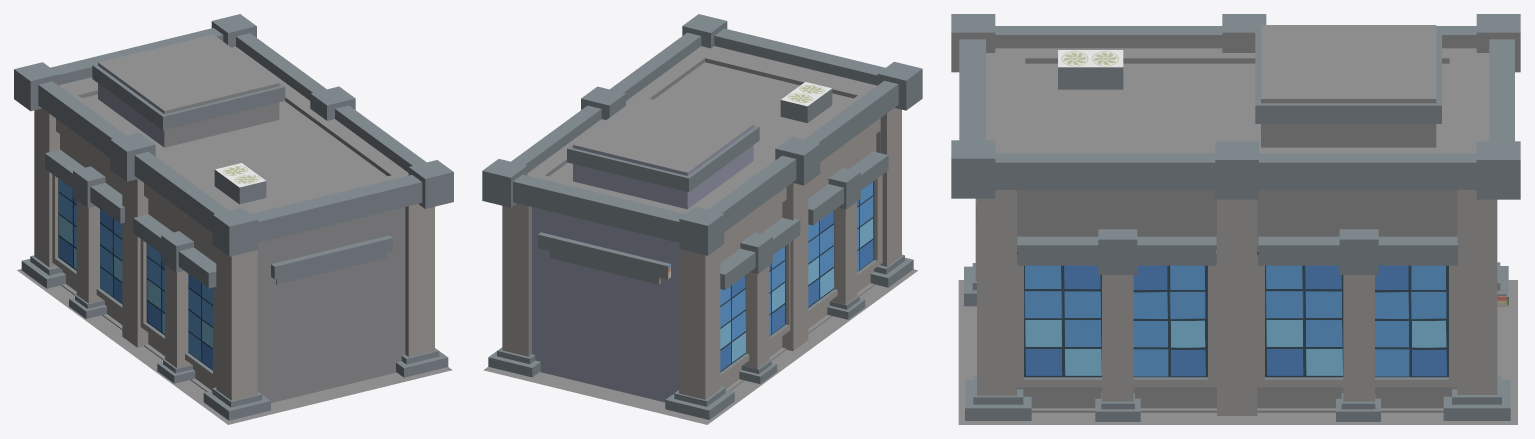
File: putong_xiaoxing10.fbx
3 views of the same model, side by side, from view 1: azimuth 30°, elevation 25°; view 2: azimuth 150°, elevation 25°; view 3: azimuth 270°, elevation 25° (orthographic). The views are drawn at different scales.
Parts seen in each view (by area): view 1: putong_xiaoxing10; view 2: putong_xiaoxing10; view 3: putong_xiaoxing10.
Boxes of the visible parts, x1,y1,x2,y2 form: putong_xiaoxing10: (14, 14, 453, 424); putong_xiaoxing10: (482, 14, 922, 424); putong_xiaoxing10: (951, 14, 1520, 424).
Size of the model in its own units: 422 by 389 by 697.
